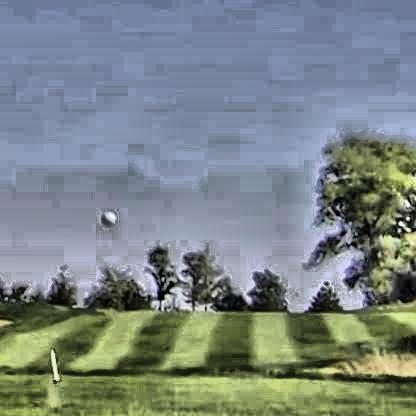golfball: (98, 206, 113, 224)
